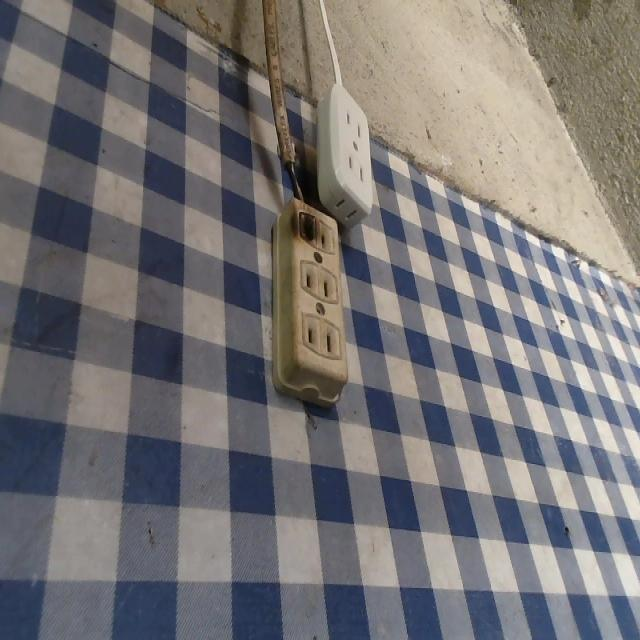-: (294, 201, 323, 251)
